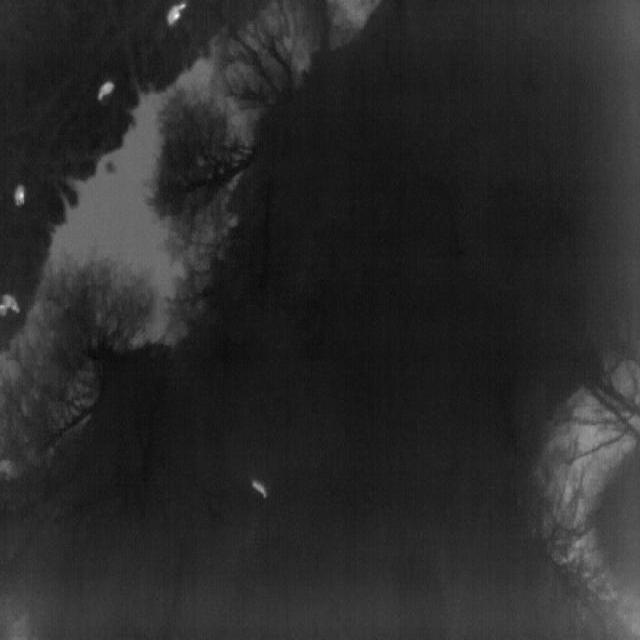deer: (166, 3, 186, 26), (2, 294, 20, 314), (252, 479, 268, 499), (98, 82, 114, 100), (14, 185, 26, 207), (0, 305, 7, 317)
